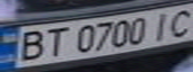0: (127, 14, 154, 45), (72, 21, 96, 54), (112, 17, 133, 48)
7: (93, 19, 115, 52)
B: (9, 27, 51, 63)
C: (163, 6, 193, 38)
I: (145, 10, 175, 42)
T: (36, 25, 69, 58)
